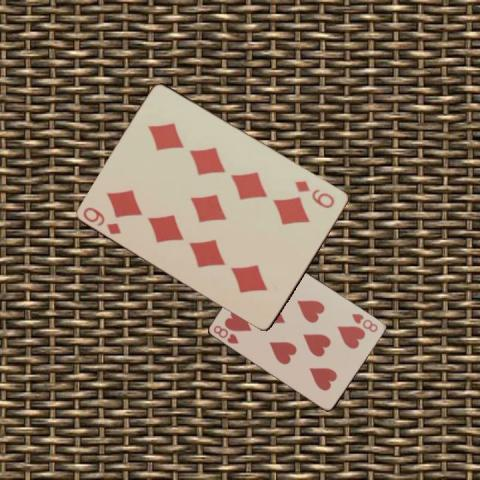8h: (210, 322, 240, 345), (349, 311, 379, 333)
9d: (292, 177, 337, 210), (80, 203, 123, 236)
